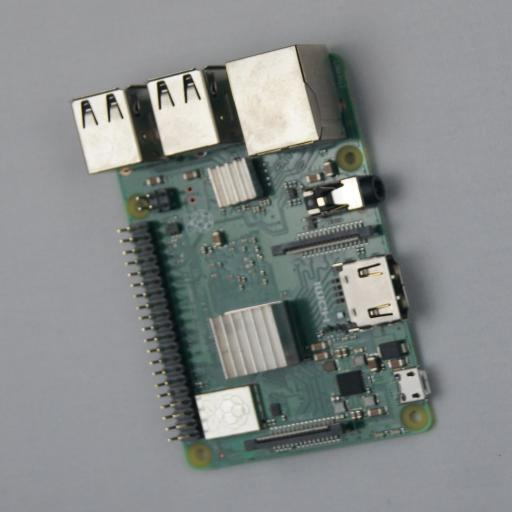Raspberry Pi 3 B-: (72, 44, 441, 470)
